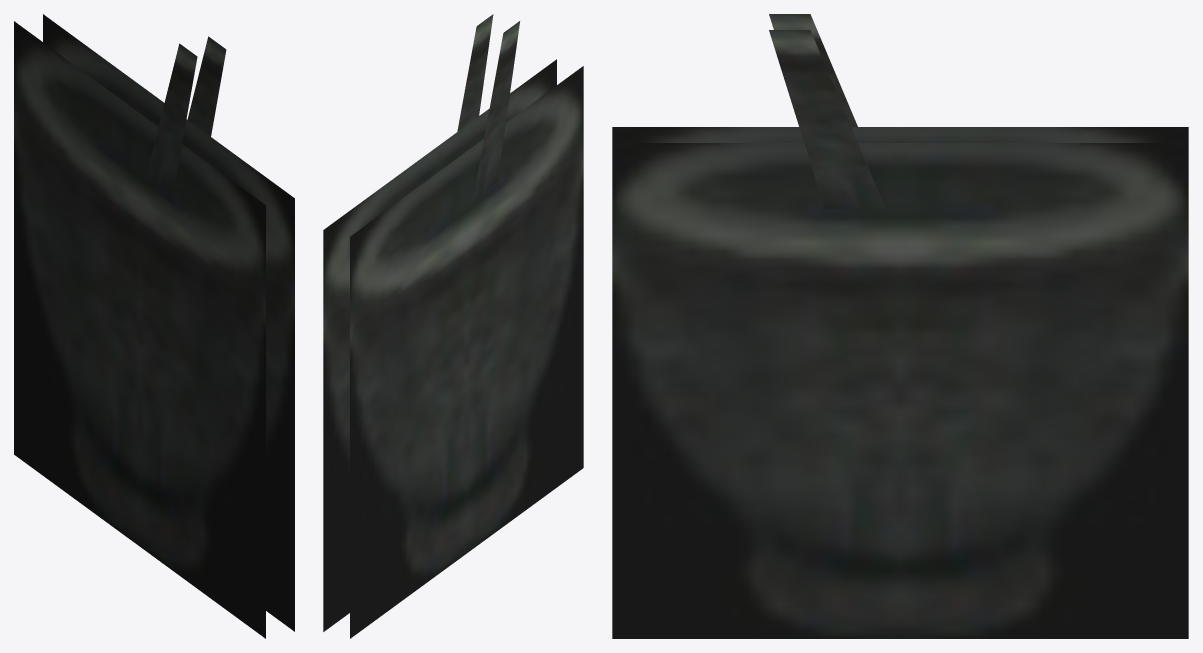
Rendered from sign1_eng_b_icon_chemist.fbx.
3 renders of one model, left to right at view 1: azimuth 30°, elevation 25°; view 2: azimuth 150°, elevation 25°; view 3: azimuth 270°, elevation 25°, orthographic. The views are drawn at different scales.
Parts seen in each view (by area): view 1: mortor, pestle; view 2: mortor, pestle; view 3: mortor, pestle.
Part boxes in pixels (x1=…): mortor: x1=14, y1=14, x2=294, y2=638; pestle: x1=146, y1=36, x2=226, y2=194; mortor: x1=323, y1=59, x2=583, y2=638; pestle: x1=457, y1=14, x2=519, y2=199; mortor: x1=612, y1=127, x2=1188, y2=638; pestle: x1=769, y1=14, x2=885, y2=208.
Bounding box in the file's own units: 16.67 × 293 × 251.
1 material, 1 textured.
